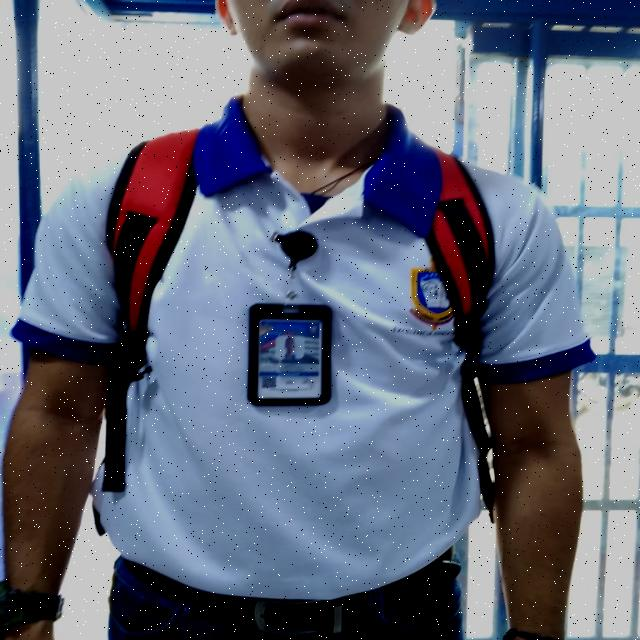carnet: (258, 319, 321, 398)
uniforme_superior: (8, 93, 598, 601)
